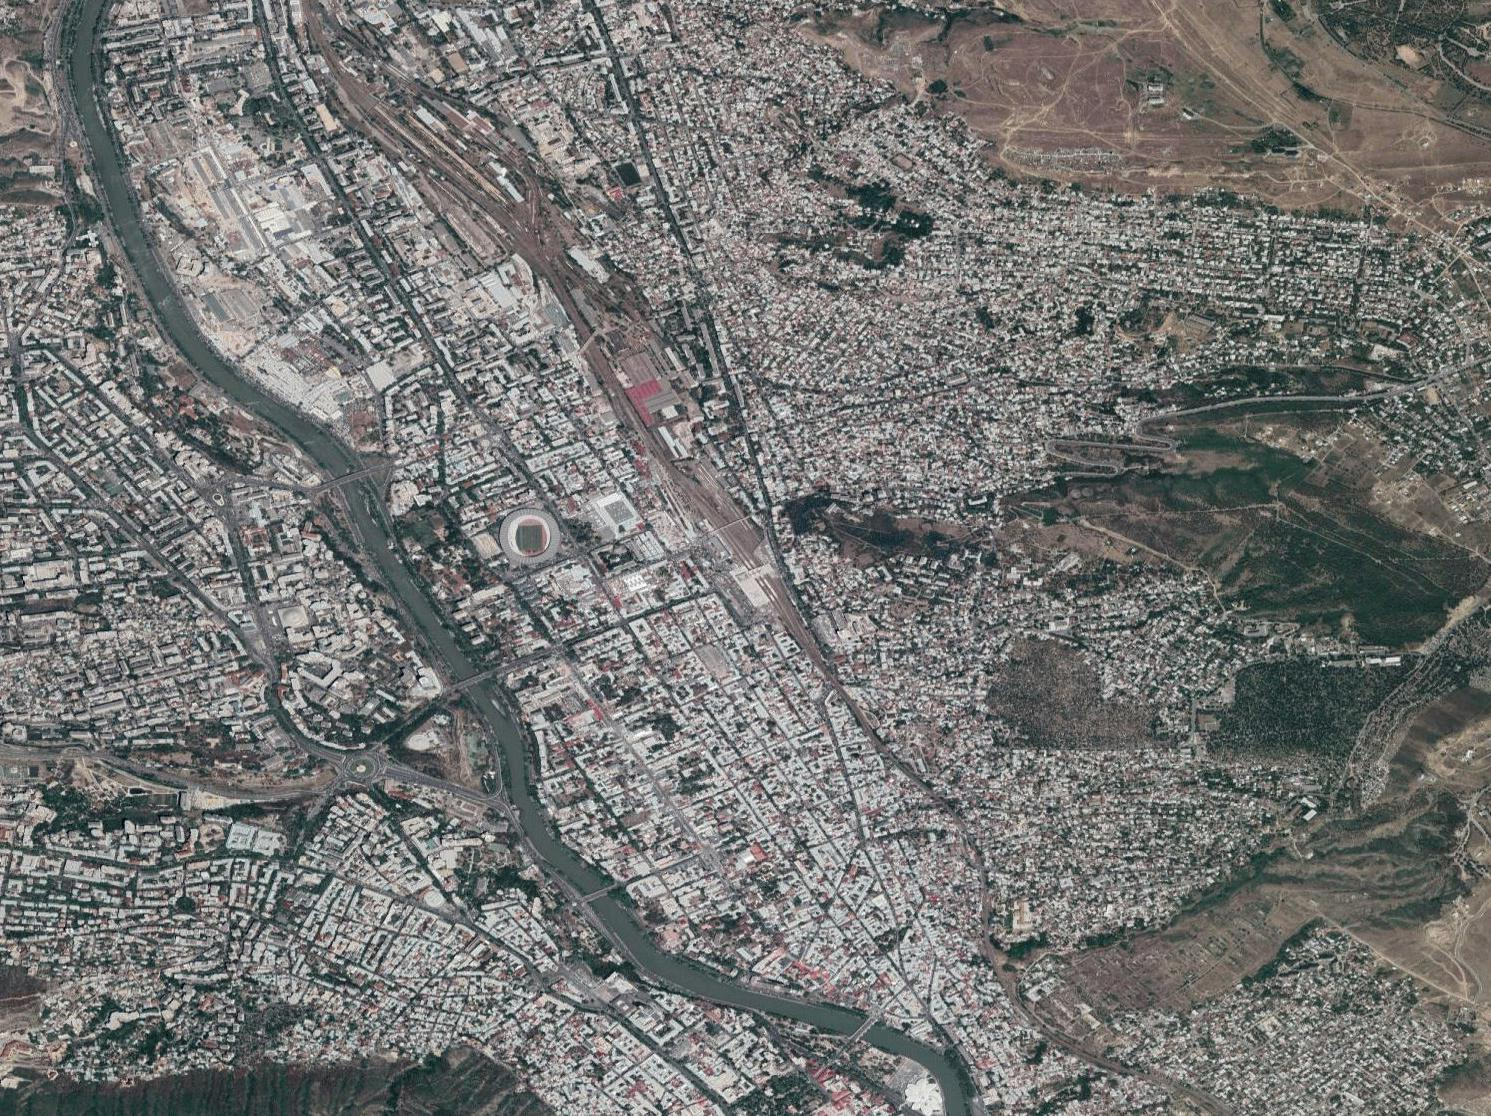bridge: (712, 513, 748, 533), (457, 669, 493, 688), (583, 880, 618, 899), (329, 468, 365, 486), (852, 1014, 878, 1037)
train_station: (735, 553, 784, 617)
